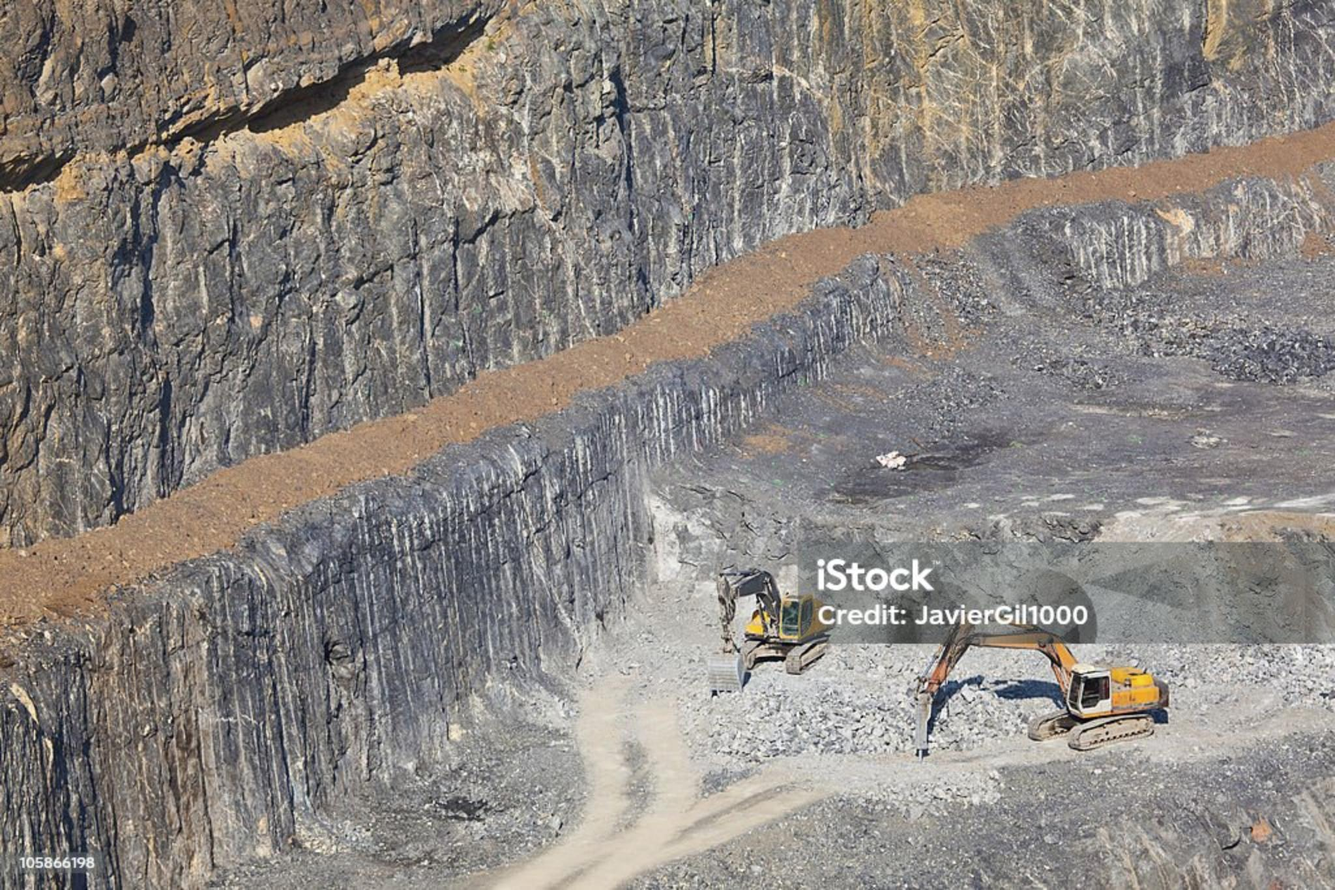benches: (0, 124, 1334, 628), (489, 675, 821, 889)
excavator: (910, 595, 1178, 736), (713, 556, 847, 686)
wall: (0, 0, 1334, 545), (0, 266, 896, 886)
